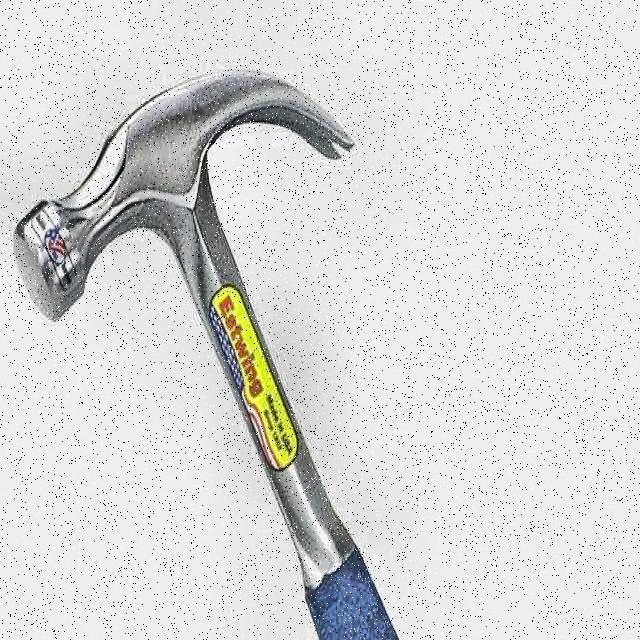hammer: (12, 66, 398, 640)
